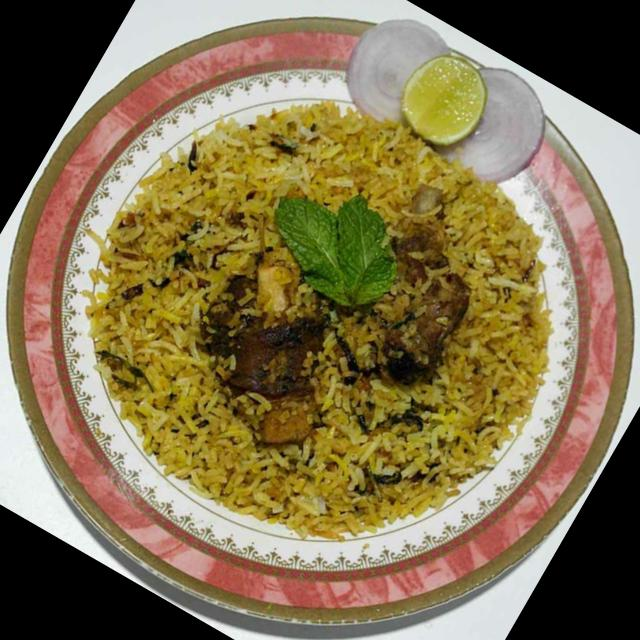Biryani: (19, 27, 622, 610)
